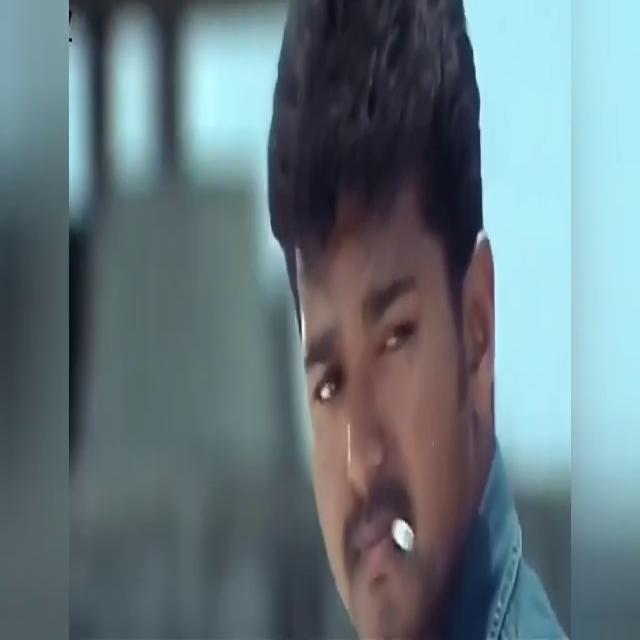smoking: (375, 441, 400, 590)
